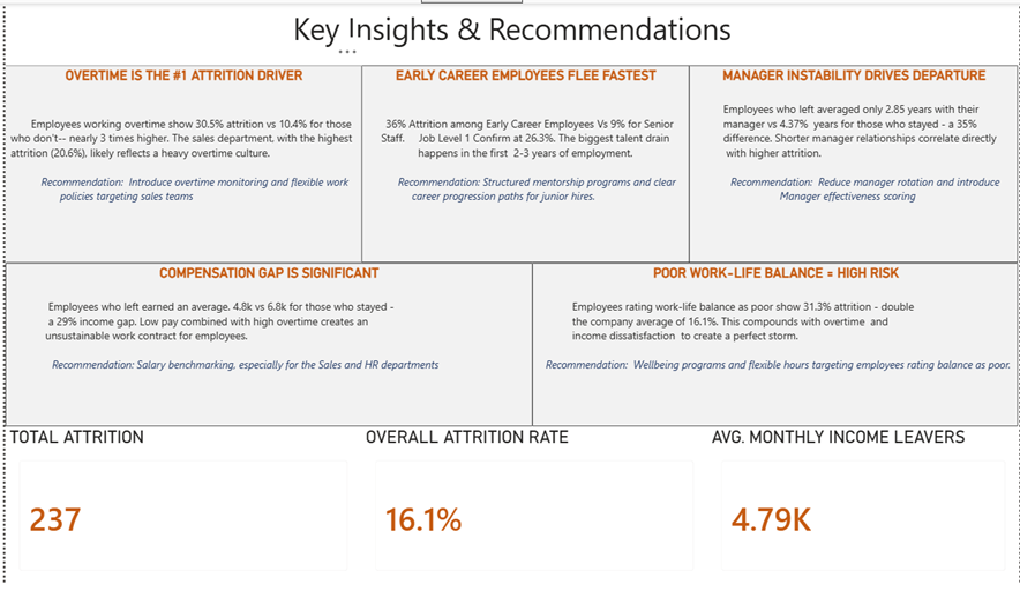

The dashboard page shown, as its layout file describes it:
{"tool":"powerbi","page":{"name":"Key Insight","canvas":[1280,720],"ordinal":4},"visuals":[{"type":"textbox","box":[0,0,1279.4,94.5],"z":0},{"type":"textbox","title":"OVERTIME  IS THE  #1 ATTRITION DRIVER","box":[0,77.5,449.8,243.8],"z":2000},{"type":"textbox","title":"EARLY CAREER EMPLOYEES FLEE FASTEST","box":[449.8,77.5,413.9,243.8],"z":2001},{"type":"textbox","title":"COMPENSATION GAP IS SIGNIFICANT","box":[0,321.3,665.2,202.2],"z":2002},{"type":"textbox","title":"POOR WORK-LIFE BALANCE = HIGH RISK","box":[665.2,321.3,614.2,202.2],"z":2003},{"type":"textbox","title":"MANAGER INSTABILITY DRIVES DEPARTURE","box":[863.6,77.5,415.8,243.8],"z":2004},{"type":"cardVisual","title":"OVERALL ATTRITION RATE","fields":{"Data":["HR_cleaned.Attrition Rate(%)"]},"box":[449.8,523.5,436.5,196.5],"z":2006},{"type":"cardVisual","title":"TOTAL ATTRITION","fields":{"Data":["HR_cleaned.Total Attrition"]},"box":[0,523.5,449.8,196.5],"z":2008},{"type":"cardVisual","title":"AVG.  MONTHLY INCOME LEAVERS","fields":{"Data":["HR_cleaned.Avg Income Leavers"]},"box":[886.3,523.5,393.1,196.5],"z":2009}]}

Visuals, with their boxes in screenshot pixels (x1, y1, x2, y2), scaled from the page's 1280x720 canvas onto the 1028x589 screenshot:
textbox: {"x1": 0, "y1": 0, "x2": 1027, "y2": 77}
"OVERTIME  IS THE  #1 ATTRITION DRIVER" textbox: {"x1": 0, "y1": 63, "x2": 361, "y2": 263}
"EARLY CAREER EMPLOYEES FLEE FASTEST" textbox: {"x1": 361, "y1": 63, "x2": 694, "y2": 263}
"COMPENSATION GAP IS SIGNIFICANT" textbox: {"x1": 0, "y1": 263, "x2": 534, "y2": 428}
"POOR WORK-LIFE BALANCE = HIGH RISK" textbox: {"x1": 534, "y1": 263, "x2": 1027, "y2": 428}
"MANAGER INSTABILITY DRIVES DEPARTURE" textbox: {"x1": 694, "y1": 63, "x2": 1027, "y2": 263}
"OVERALL ATTRITION RATE" cardVisual: {"x1": 361, "y1": 428, "x2": 712, "y2": 588}
"TOTAL ATTRITION" cardVisual: {"x1": 0, "y1": 428, "x2": 361, "y2": 588}
"AVG.  MONTHLY INCOME LEAVERS" cardVisual: {"x1": 712, "y1": 428, "x2": 1027, "y2": 588}
